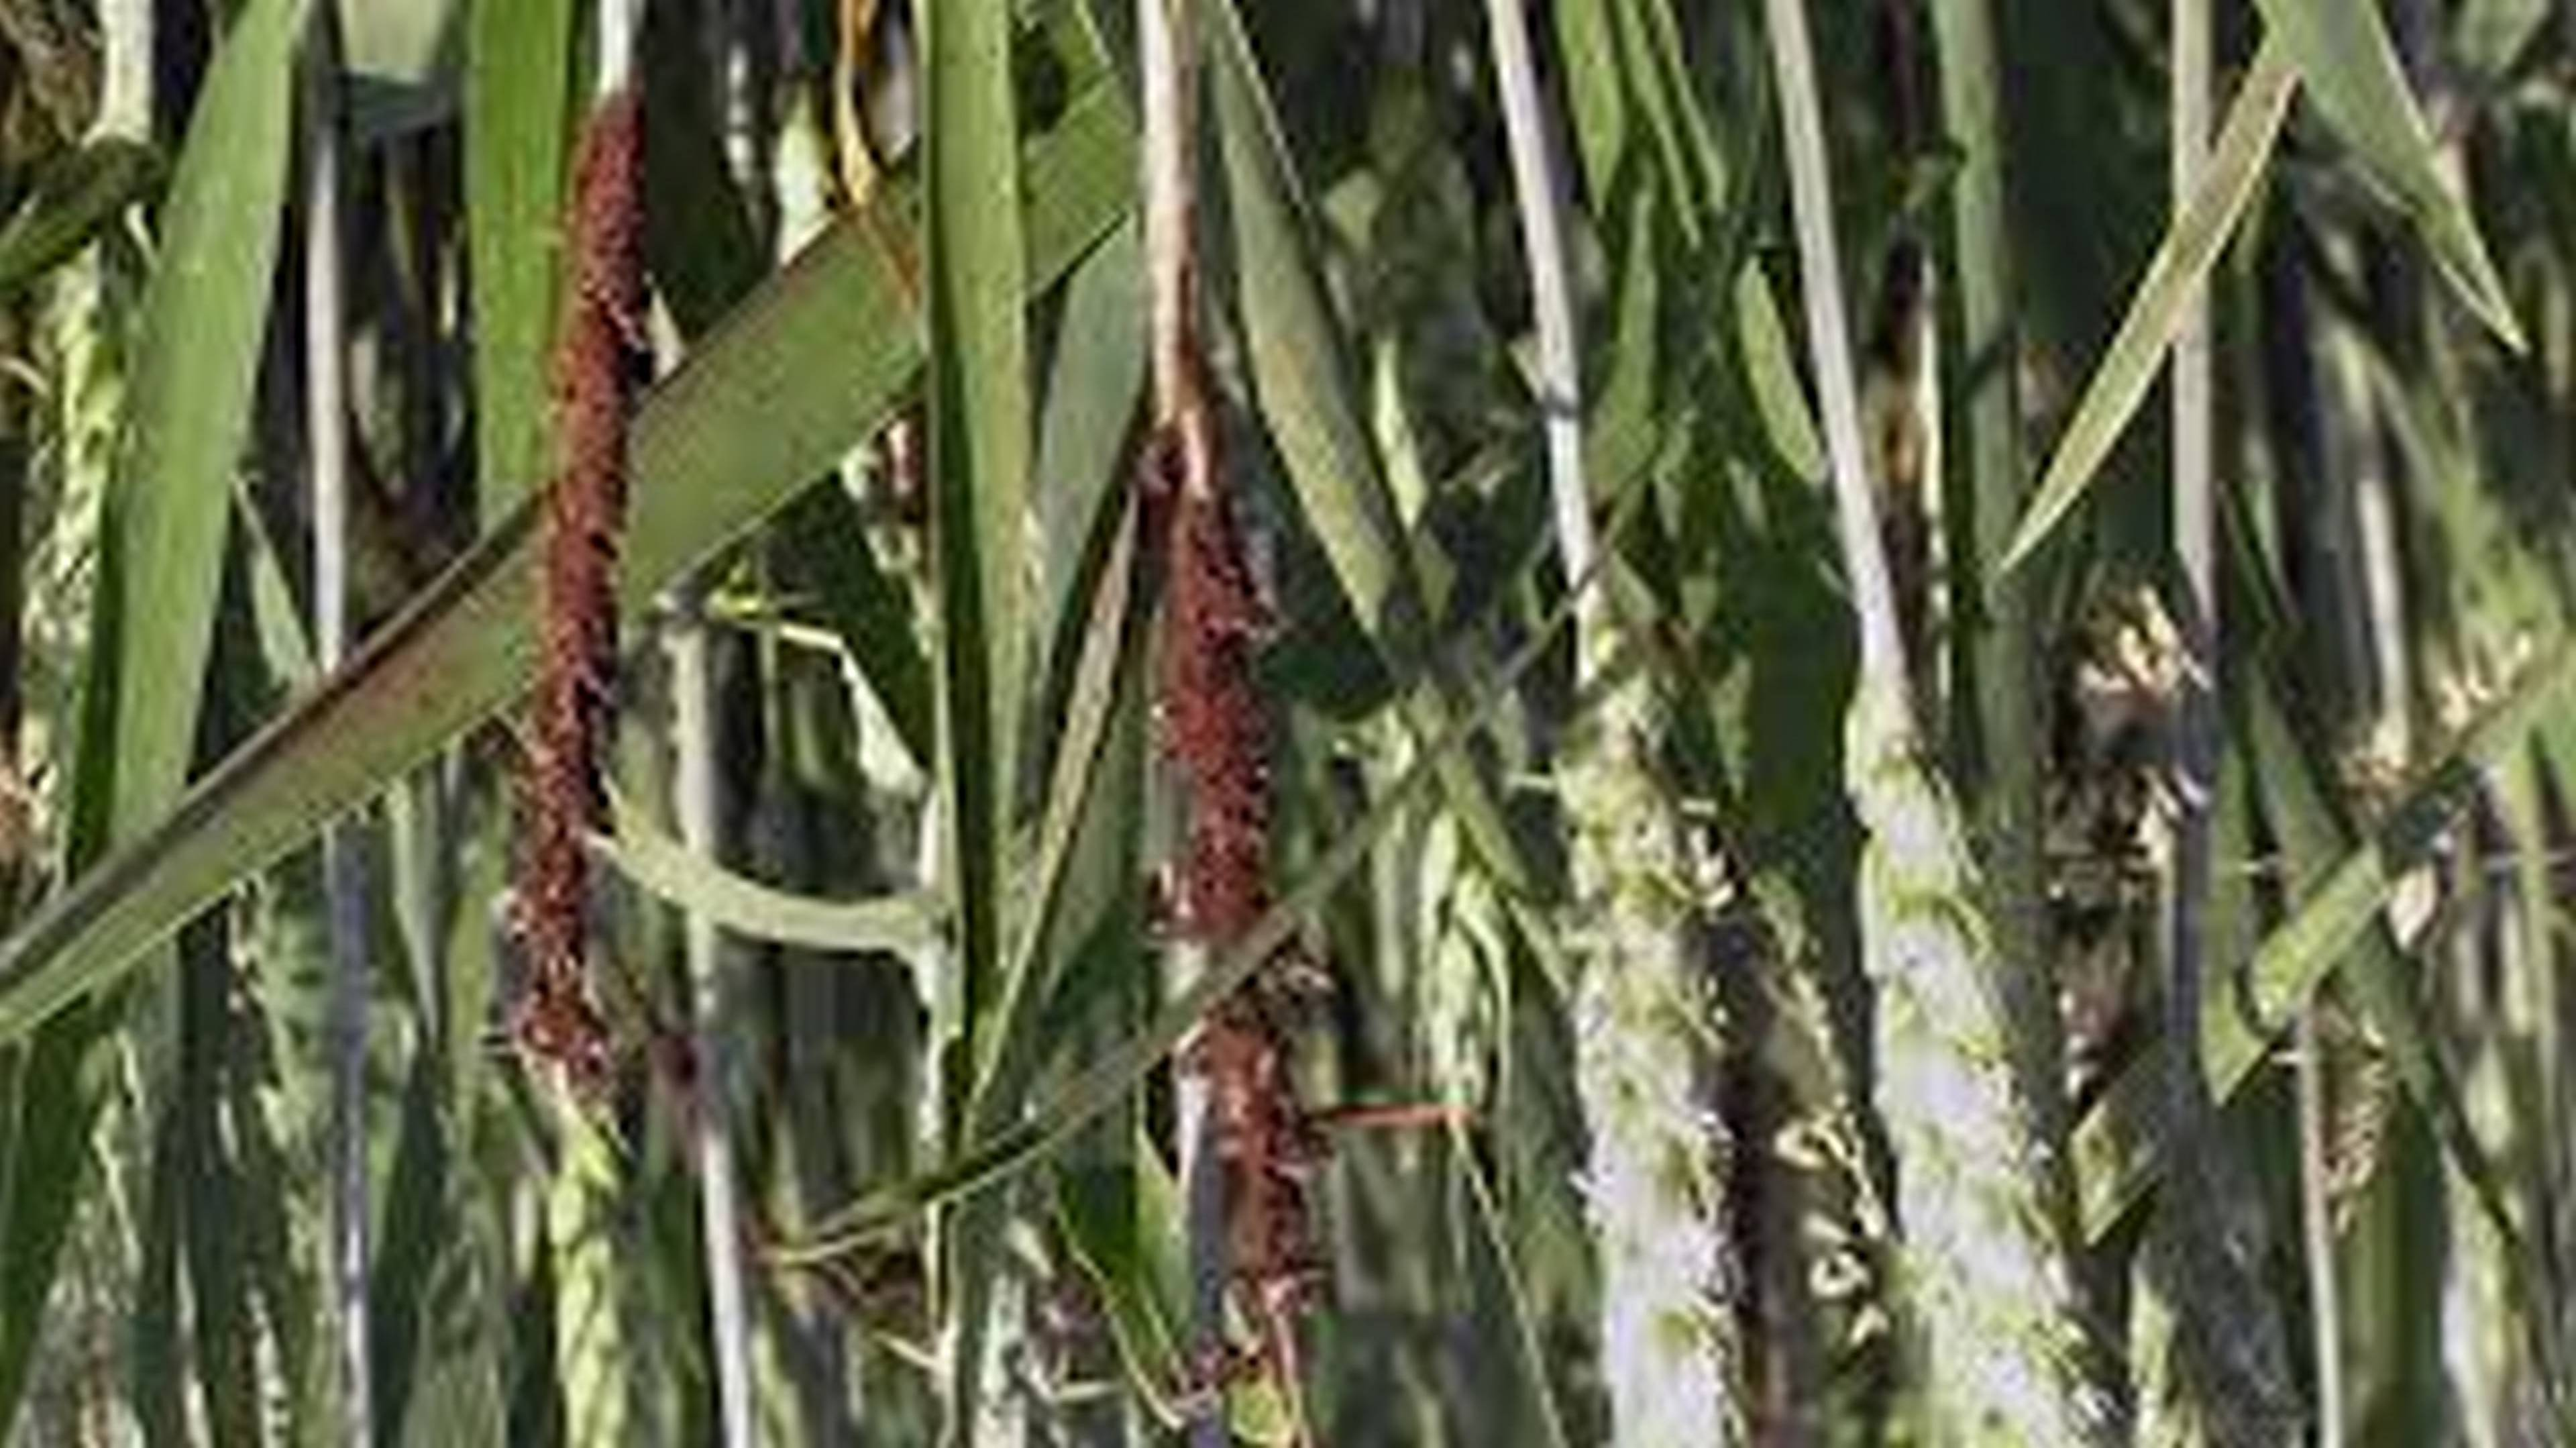Wheat Loose Smut: (510, 94, 711, 1069), (1143, 494, 1366, 1326)
